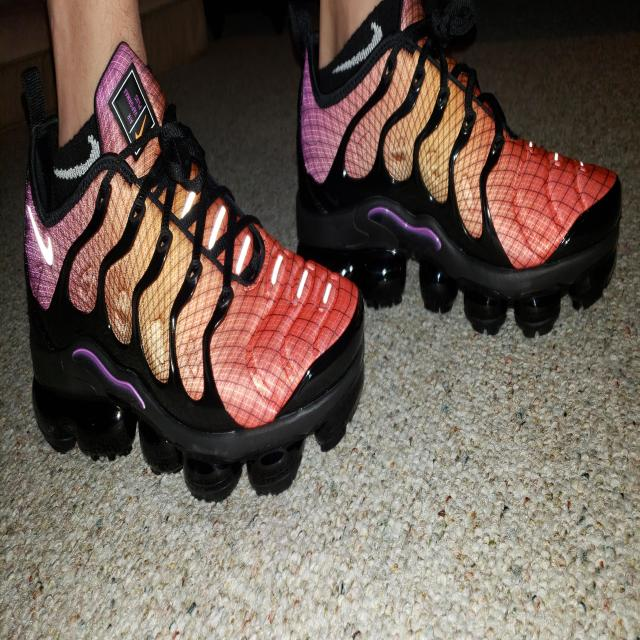shoes: (17, 42, 366, 510), (291, 5, 627, 336)
